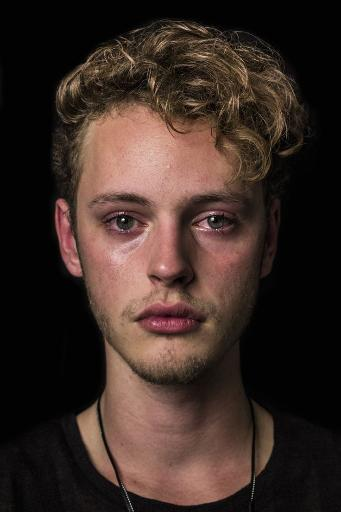left_eye: (191, 211, 241, 235)
left_lip_corner: (197, 312, 211, 329)
right_eye: (101, 211, 149, 236)
right_lip_corner: (130, 313, 146, 332)
